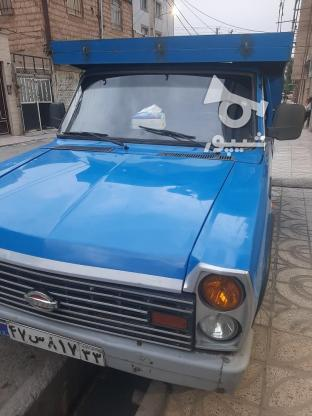car: (1, 320, 106, 369)
